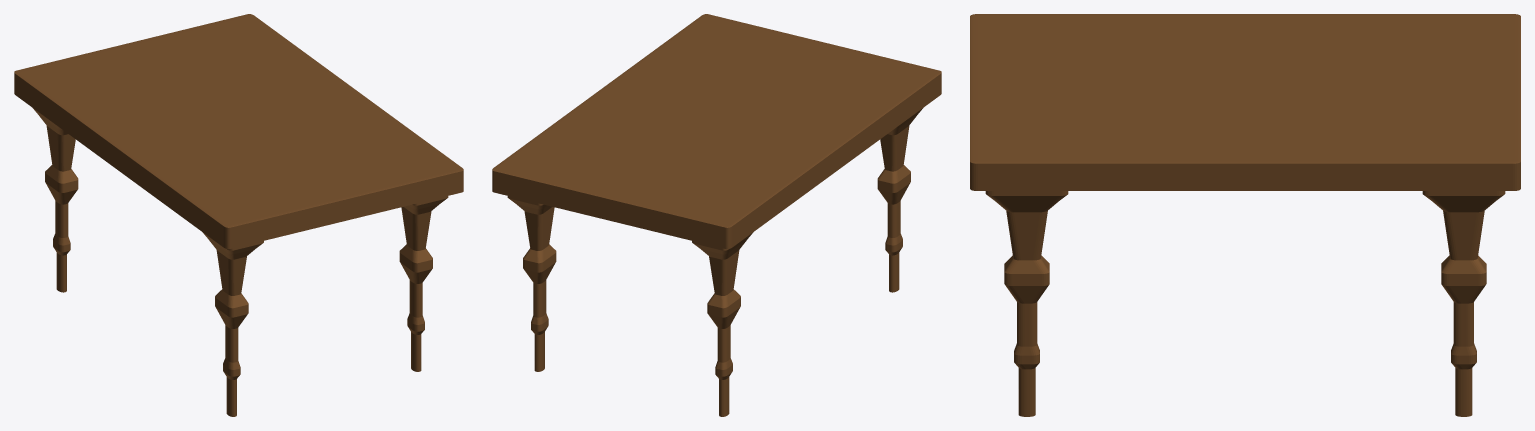
The model's file is mesa.fbx.
The picture shows the model from 3 angles, left to right: view 1: azimuth 30°, elevation 25°; view 2: azimuth 150°, elevation 25°; view 3: azimuth 270°, elevation 25°; orthographic projection. The views are drawn at different scales.
Visible parts, largest first — view 1: Cube; view 2: Cube; view 3: Cube.
Part boxes in pixels (x1,y1,x2,y2): Cube: [14, 14, 463, 416]; Cube: [492, 14, 941, 416]; Cube: [970, 14, 1520, 416].
Bounding box in the file's own units: 200 × 167 × 311.
